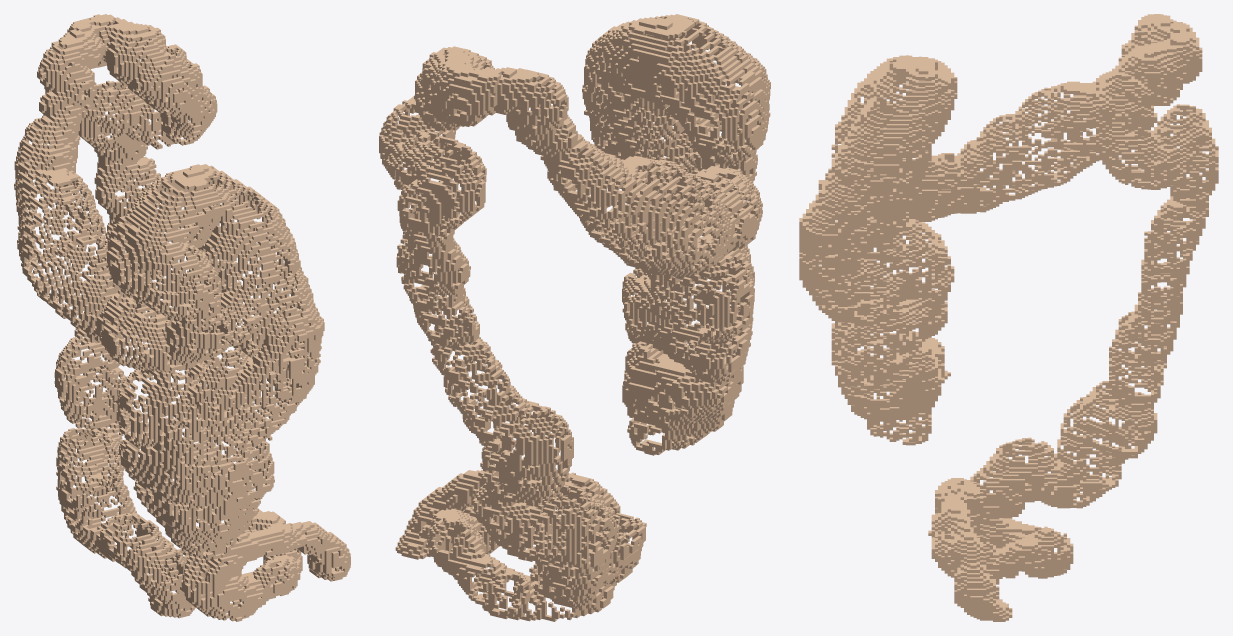
Rendered from colon.fbx.
3 views of the same model, side by side, from view 1: azimuth 30°, elevation 25°; view 2: azimuth 150°, elevation 25°; view 3: azimuth 270°, elevation 25° (orthographic). The views are drawn at different scales.
Visible parts, largest first — view 1: AustinMan; view 2: AustinMan; view 3: AustinMan.
Part boxes in pixels (x1=…): AustinMan: x1=14, y1=14, x2=350, y2=621; AustinMan: x1=379, y1=14, x2=770, y2=621; AustinMan: x1=799, y1=14, x2=1218, y2=621.
Bounding box in the file's own units: 10300 × 17800 × 13000.
